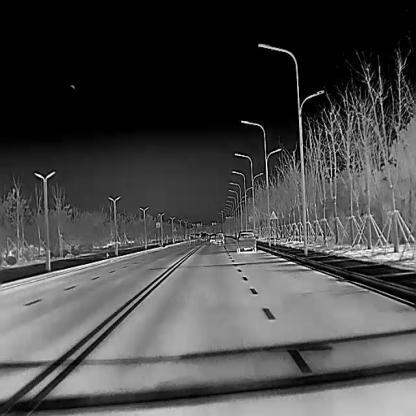car: (235, 230, 257, 253), (215, 232, 224, 244), (209, 233, 215, 244), (200, 232, 207, 241)
